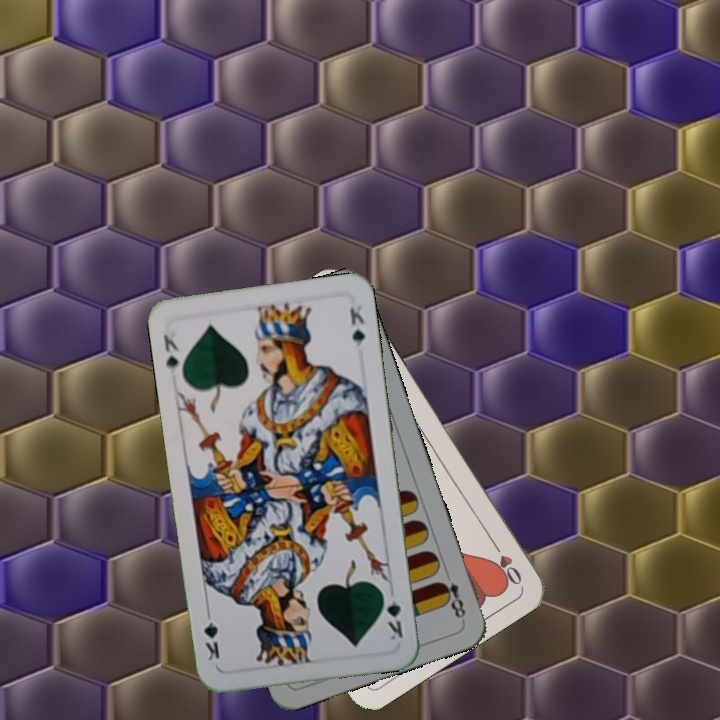E8: (435, 577, 468, 624)
GK: (378, 586, 406, 643), (159, 330, 182, 376)
HO: (486, 535, 525, 588)
